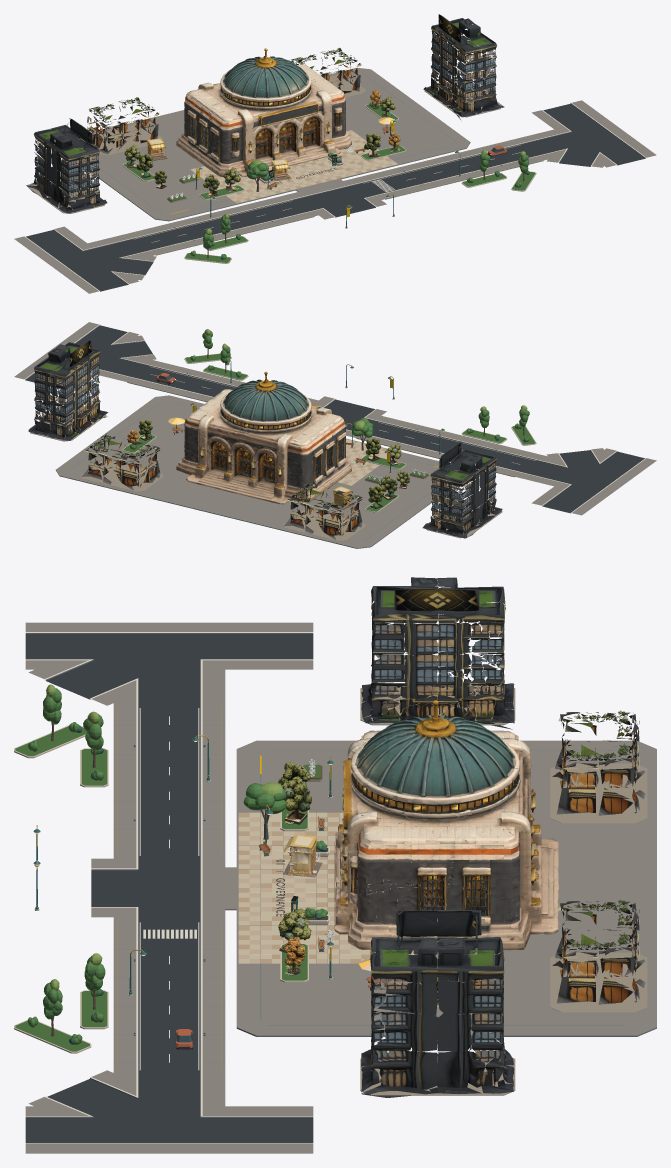
Rendered from governance-north.glb.
3 renders of one model, top to bottom at view 1: azimuth 30°, elevation 25°; view 2: azimuth 150°, elevation 25°; view 3: azimuth 270°, elevation 25°, orthographic. The views are drawn at different scales.
Visible parts, largest first — view 1: NEXCIV paving, HERO_01_Governance_Hall.001, NEXCIV city, HI3D | Billboard Commercial.001, HI3D | Billboard Commercial, HI3D | Garden Roof Retail.001, HI3D | Garden Roof Retail.002, NEXCIV detail; view 2: NEXCIV paving, HERO_01_Governance_Hall.001, NEXCIV city, HI3D | Billboard Commercial.001, HI3D | Billboard Commercial, HI3D | Garden Roof Retail.001, HI3D | Garden Roof Retail.002, Neighbourhood coffee kiosk.005, NEXCIV detail; view 3: NEXCIV paving, HERO_01_Governance_Hall.001, HI3D | Billboard Commercial.001, NEXCIV city, HI3D | Billboard Commercial, HI3D | Garden Roof Retail.001, HI3D | Garden Roof Retail.002, STREET_Coffee_Stall.001, NEXCIV detail, HI3D | Green Planter Tree.002, HI3D | Green Planter Tree.001.
Part boxes in pixels (box(x1,y1,x2,y2)): NEXCIV paving: box(14, 67, 656, 293); HERO_01_Governance_Hall.001: box(176, 48, 351, 176); NEXCIV city: box(28, 74, 536, 263); HI3D | Billboard Commercial.001: box(423, 14, 504, 119); HI3D | Billboard Commercial: box(26, 118, 107, 213); HI3D | Garden Roof Retail.001: box(87, 97, 159, 154); HI3D | Garden Roof Retail.002: box(291, 47, 361, 93); NEXCIV detail: box(127, 101, 529, 259); NEXCIV paving: box(14, 322, 656, 548); HERO_01_Governance_Hall.001: box(176, 371, 351, 504); NEXCIV city: box(28, 329, 536, 541); HI3D | Billboard Commercial.001: box(28, 339, 108, 440); HI3D | Billboard Commercial: box(422, 441, 502, 538); HI3D | Garden Roof Retail.001: box(284, 483, 362, 539); HI3D | Garden Roof Retail.002: box(82, 433, 160, 490); Neighbourhood coffee kiosk.005: box(330, 486, 354, 509); NEXCIV detail: box(130, 353, 529, 508); NEXCIV paving: box(25, 622, 656, 1153); HERO_01_Governance_Hall.001: box(334, 700, 558, 950); HI3D | Billboard Commercial.001: box(361, 910, 514, 1097); NEXCIV city: box(14, 683, 647, 1095); HI3D | Billboard Commercial: box(361, 577, 514, 729); HI3D | Garden Roof Retail.001: box(552, 710, 645, 815); HI3D | Garden Roof Retail.002: box(552, 899, 645, 1004); STREET_Coffee_Stall.001: box(283, 834, 322, 877); NEXCIV detail: box(27, 722, 327, 1044); HI3D | Green Planter Tree.002: box(282, 780, 311, 824); HI3D | Green Planter Tree.001: box(278, 908, 311, 952).
Size of the model in its own units: 140 by 24.13 by 71.89.
39 materials, 6 textured.
